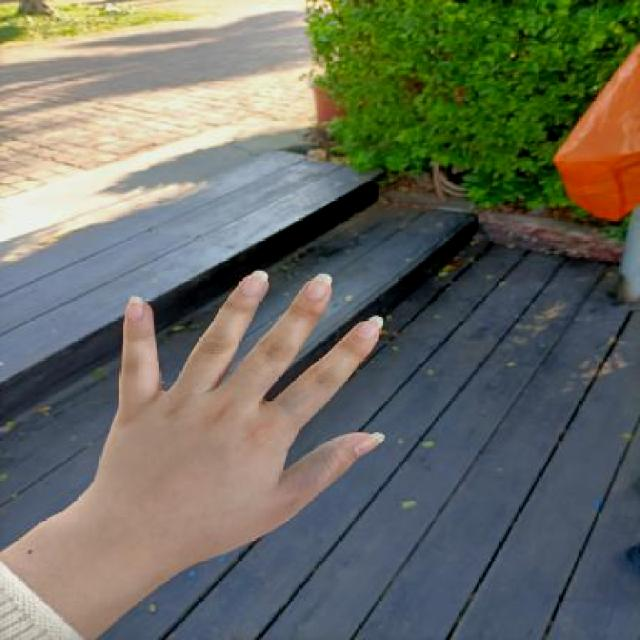no_glove: (39, 255, 418, 573)
